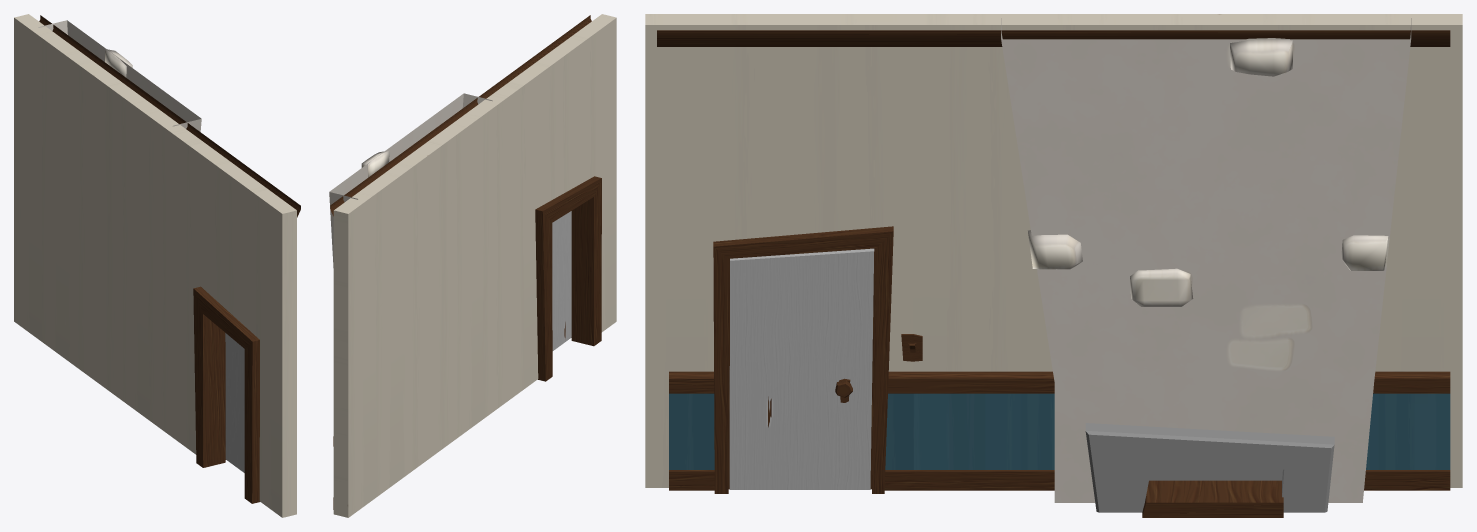
File: KitchenWall_FirePlace.fbx
3 renders of one model, left to right at view 1: azimuth 30°, elevation 25°; view 2: azimuth 150°, elevation 25°; view 3: azimuth 270°, elevation 25°, orthographic. The views are drawn at different scales.
Visible parts, largest first — view 1: Midnight_Antics_House_Build_V1.013; view 2: Midnight_Antics_House_Build_V1.013; view 3: Midnight_Antics_House_Build_V1.013.
Boxes of the visible parts, bbox=[...] form: Midnight_Antics_House_Build_V1.013: bbox=[14, 14, 300, 517]; Midnight_Antics_House_Build_V1.013: bbox=[329, 14, 616, 517]; Midnight_Antics_House_Build_V1.013: bbox=[645, 14, 1462, 517].
Bounding box in the file's own units: 8647 × 40279 × 64003.
